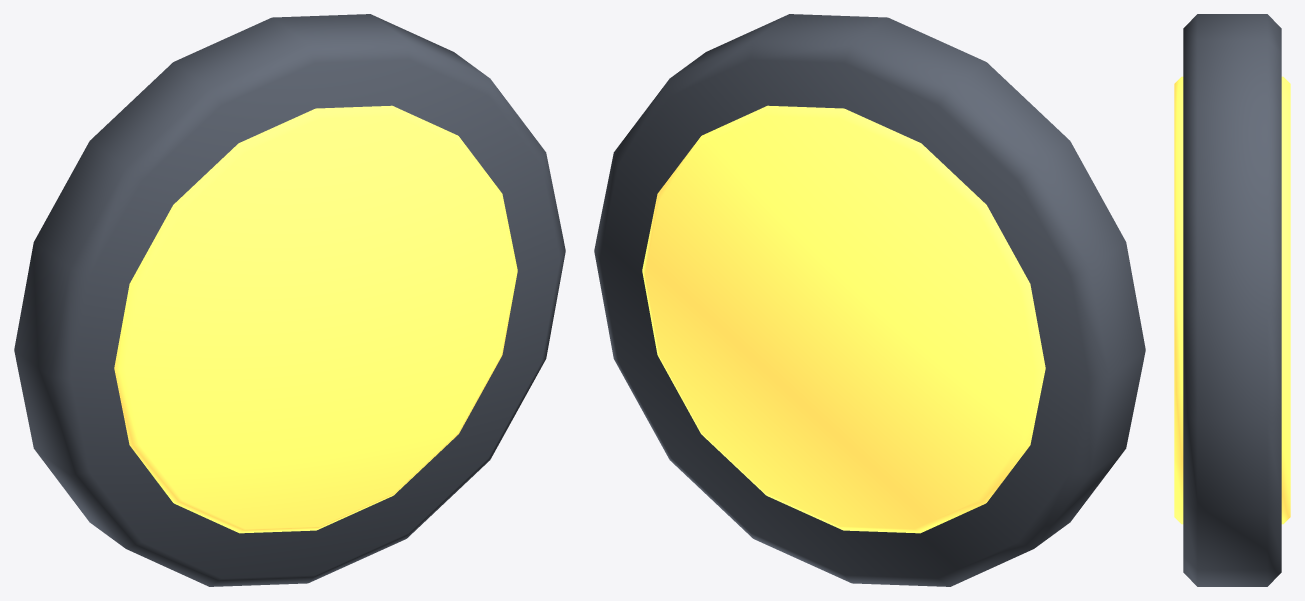
Rendered from plasma_coil.glb.
3 renders of one model, left to right at view 1: azimuth 30°, elevation 25°; view 2: azimuth 150°, elevation 25°; view 3: azimuth 270°, elevation 25°, orthographic. The views are drawn at different scales.
Visible parts, largest first — view 1: plasma_coil; view 2: plasma_coil; view 3: plasma_coil.
Boxes of the visible parts, bbox=[...] form: plasma_coil: bbox=[14, 14, 565, 586]; plasma_coil: bbox=[594, 14, 1145, 586]; plasma_coil: bbox=[1174, 14, 1290, 586].
Bounding box in the file's own units: 0.32 × 0.32 × 0.065.
